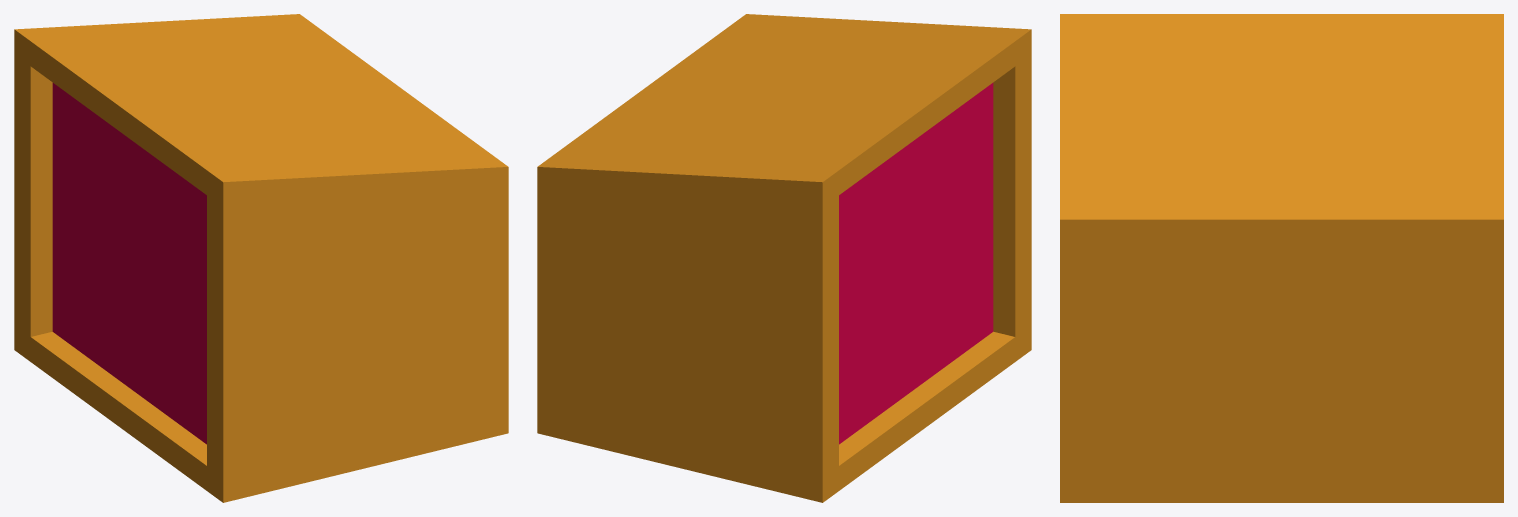
3 views of the same model, side by side, from view 1: azimuth 30°, elevation 25°; view 2: azimuth 150°, elevation 25°; view 3: azimuth 270°, elevation 25° (orthographic). The views are drawn at different scales.
Visible parts, largest first — view 1: TV; view 2: TV; view 3: TV.
Boxes of the visible parts, x1,y1,x2,y2 form: TV: (14, 14, 508, 502); TV: (537, 14, 1031, 502); TV: (1060, 14, 1503, 502).
Bounding box in the file's own units: 41.65 × 44.74 × 52.79.
